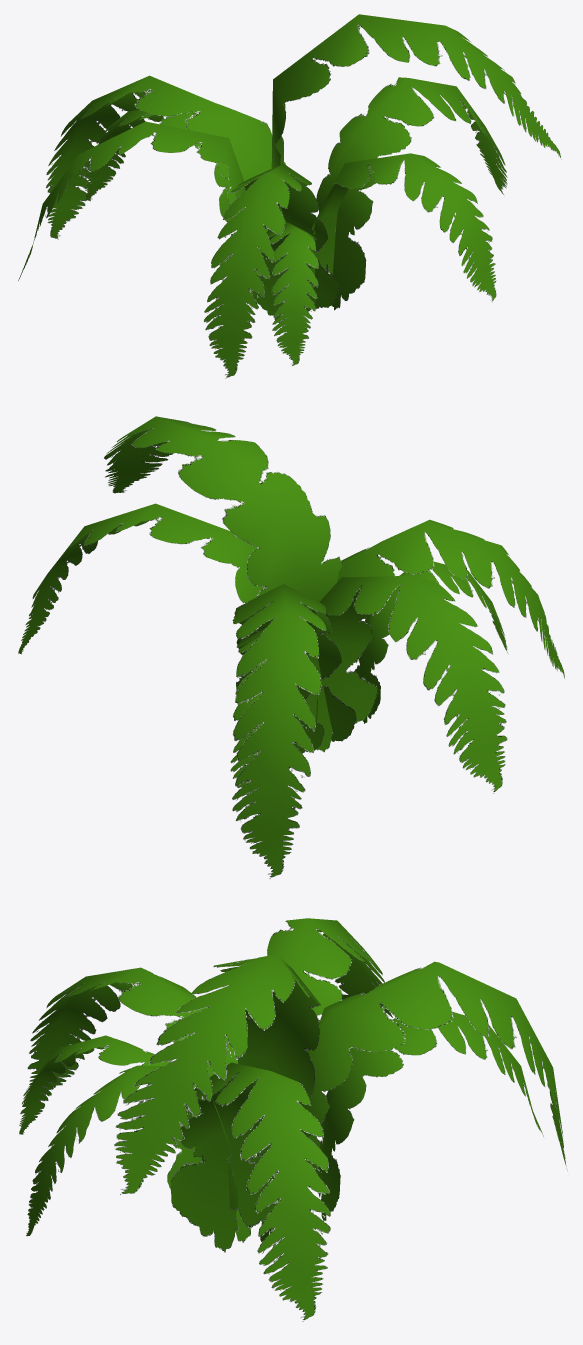
The model's file is fern1.obj.
3 renders of one model, top to bottom at view 1: azimuth 30°, elevation 25°; view 2: azimuth 150°, elevation 25°; view 3: azimuth 270°, elevation 25°, orthographic. The views are drawn at different scales.
Visible parts, largest first — view 1: bush_fern_joined.001_Plane.000; view 2: bush_fern_joined.001_Plane.000; view 3: bush_fern_joined.001_Plane.000.
Boxes of the visible parts, left/top/right/bottom form: bush_fern_joined.001_Plane.000: left=18, top=14, right=561, bottom=378; bush_fern_joined.001_Plane.000: left=18, top=416, right=564, bottom=878; bush_fern_joined.001_Plane.000: left=19, top=918, right=567, bottom=1321.
Size of the model in its own units: 6.58 by 3.77 by 5.61.
Materials: 1 (1 with a texture image).
